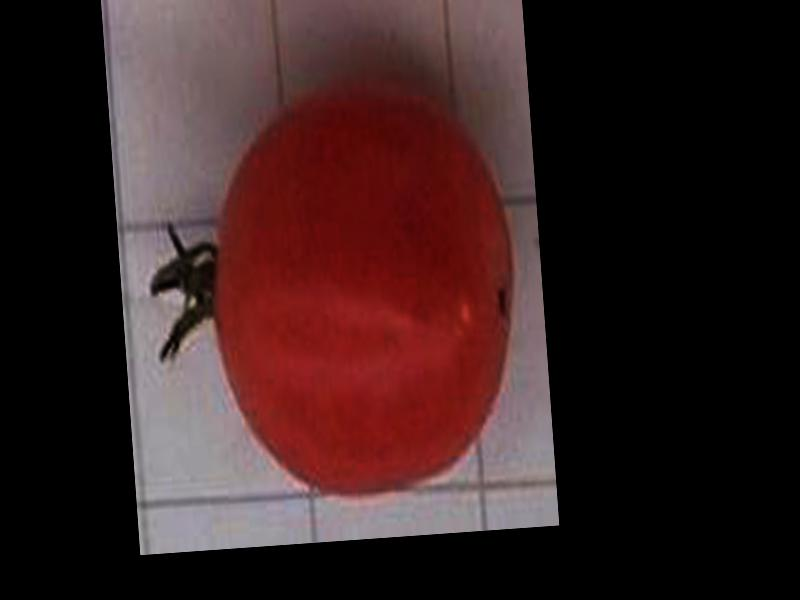Tomato: (200, 74, 528, 503)
